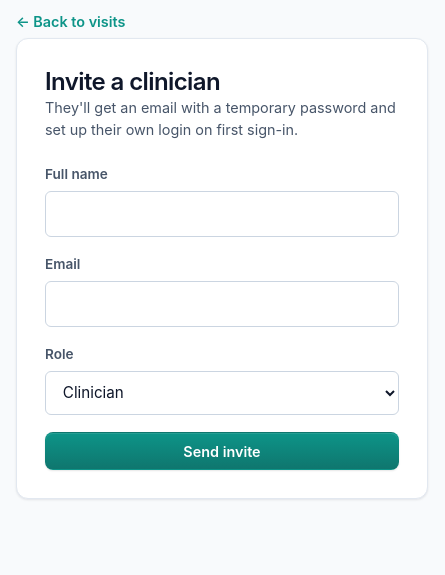
Test case: InviteClinician › shows an error and does not clear the form on failure
Step 1. Type "Bob Smith" into the field labelled "Full name" → (222, 214), box [45,191,399,237]
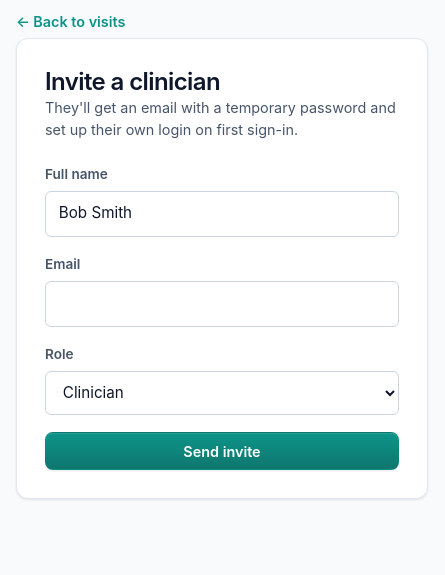
Step 2. Type "bob@x.test" into the field labelled "Email" → (222, 304), box [45,281,399,326]
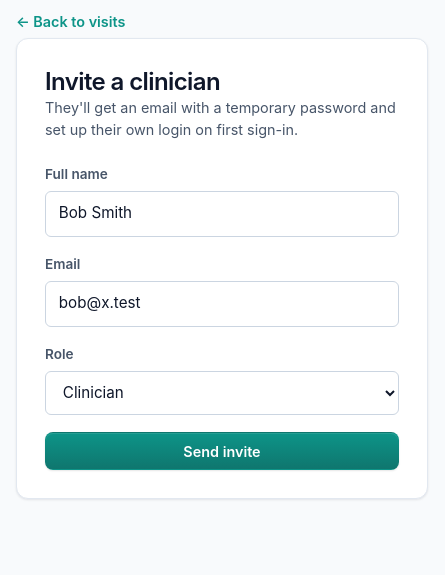
Step 3. Click the button "Send invite" → (222, 451), box [45,432,399,470]
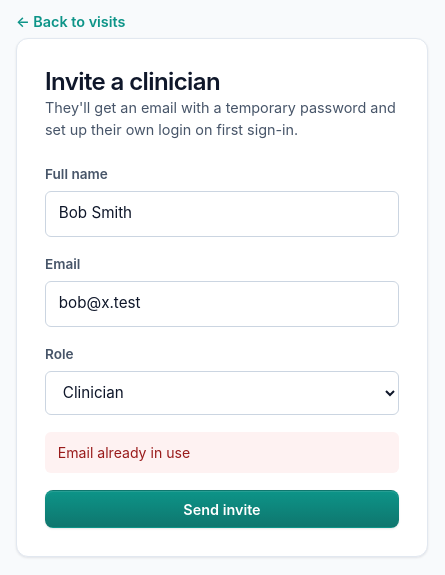
Result: the text "Email already in use" is shown at [45,432,399,473]
